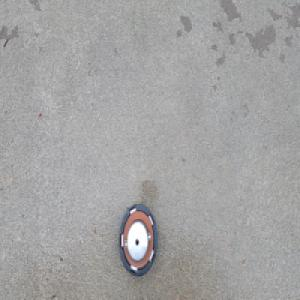FuelCap: (117, 201, 158, 277)
